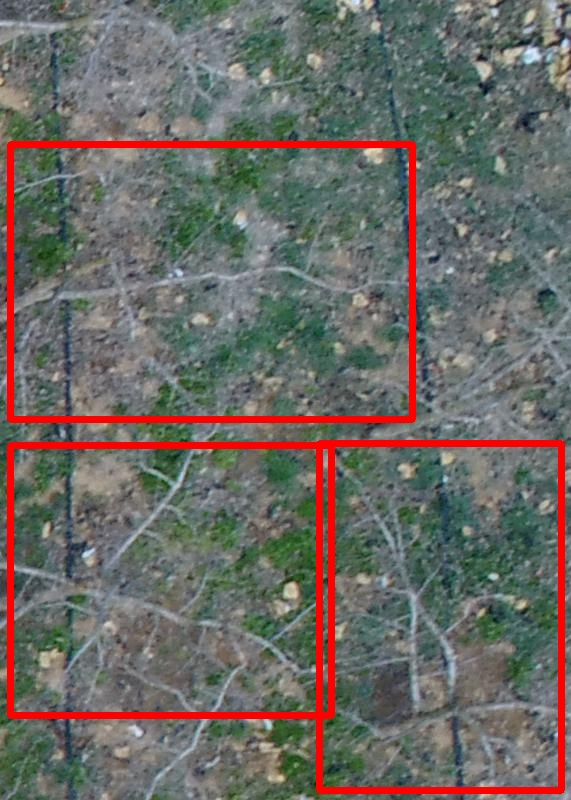apple: (10, 144, 412, 419), (10, 445, 331, 715), (319, 443, 561, 790)
